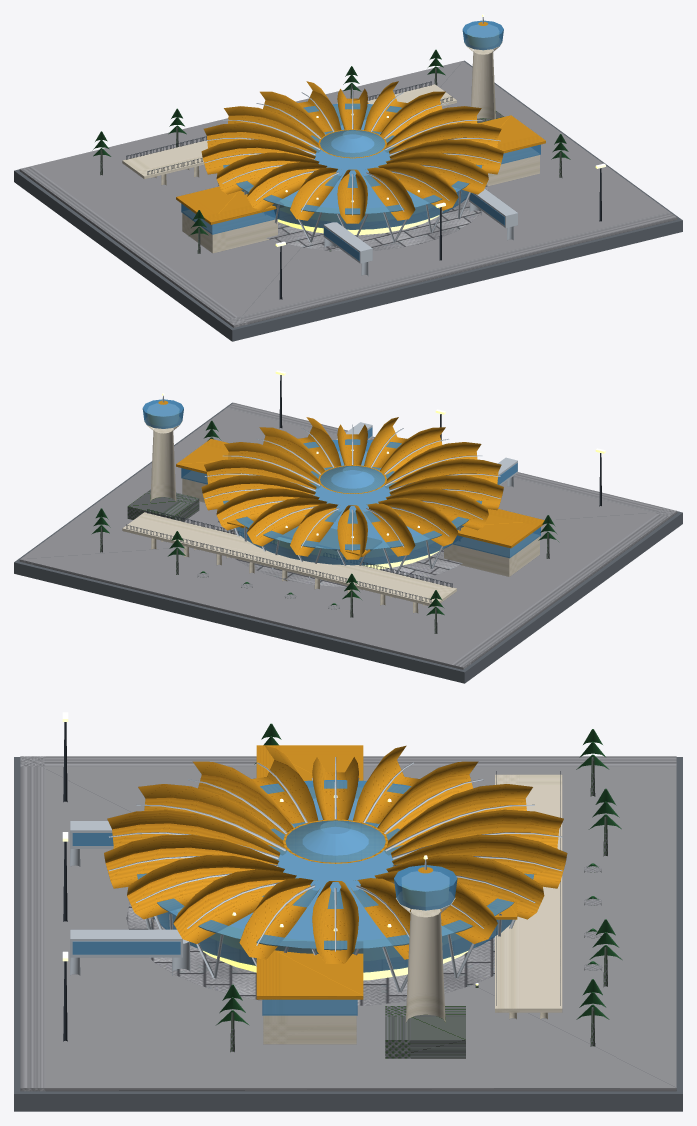
Rendered from ultra_lm_23_san_bay_lien_khuong.glb.
3 renders of one model, top to bottom at view 1: azimuth 30°, elevation 25°; view 2: azimuth 150°, elevation 25°; view 3: azimuth 270°, elevation 25°, orthographic. The views are drawn at different scales.
Parts seen in each view (by area): view 1: Apron_And_DropoffPlaza_Granite, WildSunflower_18Petal_Golden_DomeRoof, CurtainWall_Skylight_And_ATCTower_Glass, FoundationSkirt_Minus3m, Terminal_Viaduct_And_ATC_Concrete, SpaceFrame_Columns_And_Jetbridges, Concourse_Lights_And_AviationBeacons, Boulevard_Gardens, Viaduct_Guardrails_And_Masts; view 2: Apron_And_DropoffPlaza_Granite, WildSunflower_18Petal_Golden_DomeRoof, Terminal_Viaduct_And_ATC_Concrete, FoundationSkirt_Minus3m, CurtainWall_Skylight_And_ATCTower_Glass, SpaceFrame_Columns_And_Jetbridges, RetainingWalls_And_PlanterBases, Viaduct_Guardrails_And_Masts, Boulevard_Gardens, Concourse_Lights_And_AviationBeacons; view 3: Apron_And_DropoffPlaza_Granite, WildSunflower_18Petal_Golden_DomeRoof, CurtainWall_Skylight_And_ATCTower_Glass, FoundationSkirt_Minus3m, Terminal_Viaduct_And_ATC_Concrete, SpaceFrame_Columns_And_Jetbridges, RetainingWalls_And_PlanterBases, Boulevard_Gardens, Concourse_Lights_And_AviationBeacons, Viaduct_Guardrails_And_Masts.
Part boxes in pixels (<box>): Apron_And_DropoffPlaza_Granite: <box>19,61,677,327</box>; WildSunflower_18Petal_Golden_DomeRoof: <box>176,22,545,224</box>; CurtainWall_Skylight_And_ATCTower_Glass: <box>181,20,540,260</box>; FoundationSkirt_Minus3m: <box>14,60,682,341</box>; Terminal_Viaduct_And_ATC_Concrete: <box>122,42,539,253</box>; SpaceFrame_Columns_And_Jetbridges: <box>204,17,517,275</box>; Concourse_Lights_And_AviationBeacons: <box>275,14,605,246</box>; Boulevard_Gardens: <box>92,49,570,235</box>; Viaduct_Guardrails_And_Masts: <box>126,81,601,299</box>; Apron_And_DropoffPlaza_Granite: <box>19,403,677,669</box>; WildSunflower_18Petal_Golden_DomeRoof: <box>158,400,544,559</box>; Terminal_Viaduct_And_ATC_Concrete: <box>122,420,539,613</box>; FoundationSkirt_Minus3m: <box>14,402,682,683</box>; CurtainWall_Skylight_And_ATCTower_Glass: <box>142,399,540,565</box>; SpaceFrame_Columns_And_Jetbridges: <box>162,395,517,577</box>; RetainingWalls_And_PlanterBases: <box>100,438,549,633</box>; Viaduct_Guardrails_And_Masts: <box>126,375,601,602</box>; Boulevard_Gardens: <box>92,420,558,615</box>; Concourse_Lights_And_AviationBeacons: <box>148,370,605,569</box>; Apron_And_DropoffPlaza_Granite: <box>20,756,676,1091</box>; WildSunflower_18Petal_Golden_DomeRoof: <box>104,745,567,999</box>; CurtainWall_Skylight_And_ATCTower_Glass: <box>72,779,534,1015</box>; FoundationSkirt_Minus3m: <box>14,757,682,1111</box>; Terminal_Viaduct_And_ATC_Concrete: <box>151,774,562,1044</box>; SpaceFrame_Columns_And_Jetbridges: <box>70,757,562,992</box>; RetainingWalls_And_PlanterBases: <box>230,756,607,1058</box>; Boulevard_Gardens: <box>216,723,621,1024</box>; Concourse_Lights_And_AviationBeacons: <box>62,712,478,985</box>; Viaduct_Guardrails_And_Masts: <box>63,722,560,1041</box>.
Size of the model in its own units: 124 by 35.45 by 104.
Materials: 10 (4 with a texture image).
